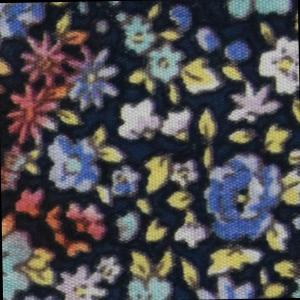Stain: (1, 27, 117, 268)
